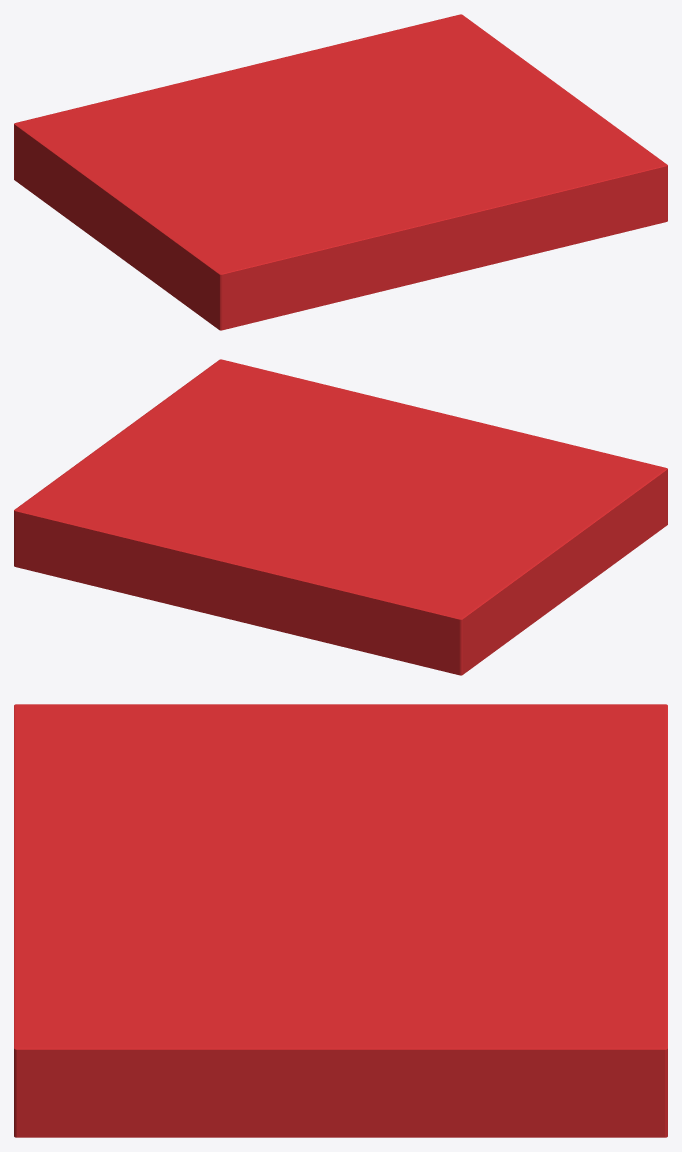
Rendered from drum base.fbx.
3 views of the same model, one above another, from view 1: azimuth 30°, elevation 25°; view 2: azimuth 150°, elevation 25°; view 3: azimuth 270°, elevation 25° (orthographic). The views are drawn at different scales.
Visible parts, largest first — view 1: base; view 2: base; view 3: base.
Boxes of the visible parts, <box> form: base: <box>14,14,667,330</box>; base: <box>14,359,667,675</box>; base: <box>14,704,667,1137</box>.
Size of the model in its own units: 250 by 30 by 200.
